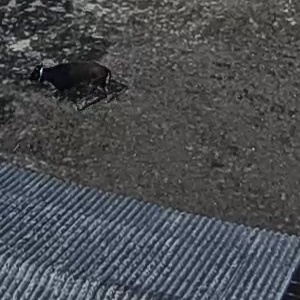cow: (33, 52, 124, 115)
